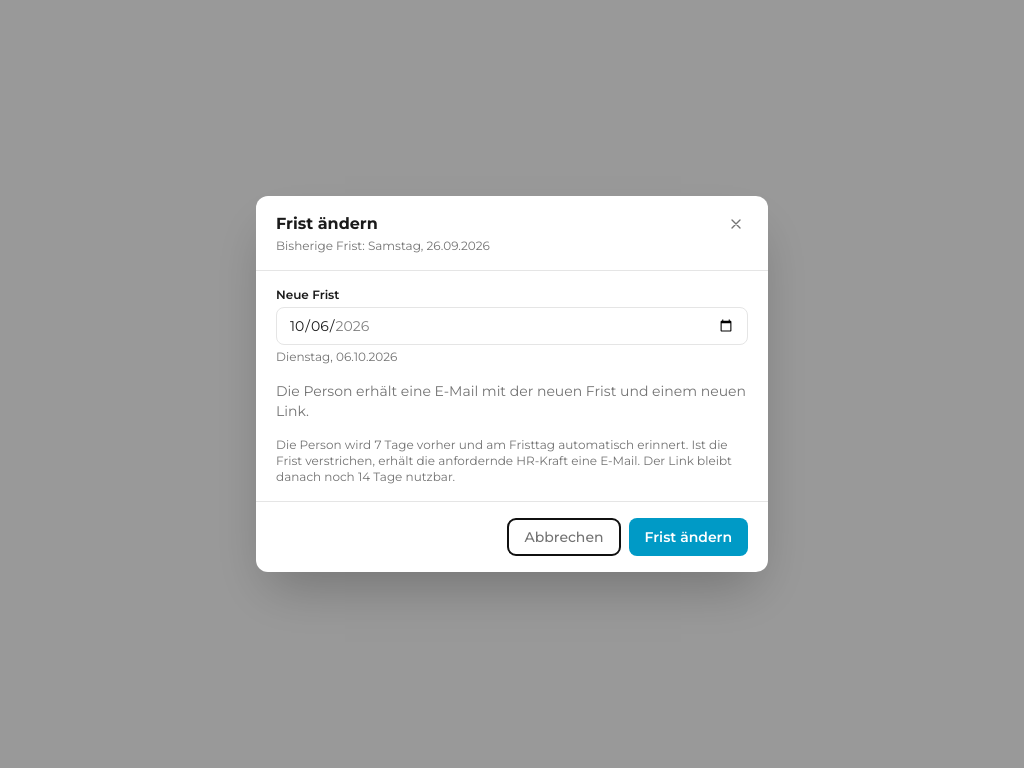
Frist ändern › Seite ueber Mitternacht offen: Grenzen und Pruefung nach dem Tag im Browser (keine 400 FRIST_ZU_FRUEH)
The image size is (1024, 768).
Type "2026-09-22" into the date field labelled "Neue Frist". click: (512, 326)
box: [276,307,748,345]
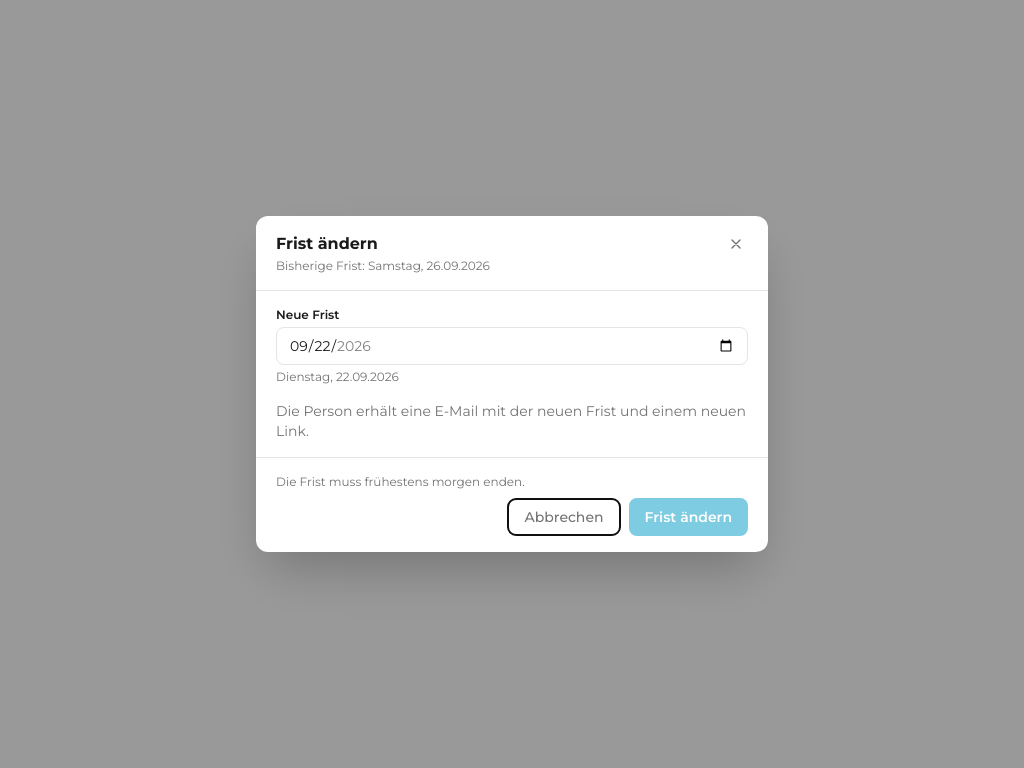
Now the button "Frist ändern" is disabled, box [628,498,748,536]
